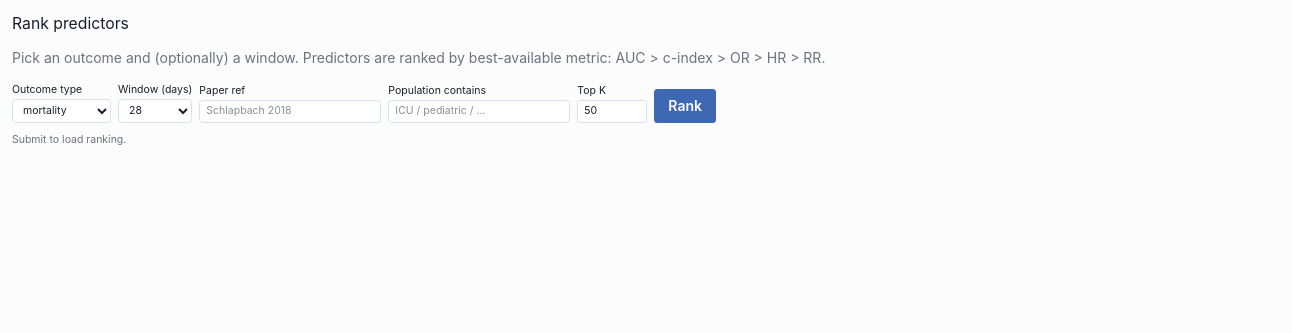
Test: RankPage › toggles the supporting-rows drawer
Click the button "Rank" at (685, 106), box [654,89,716,123]
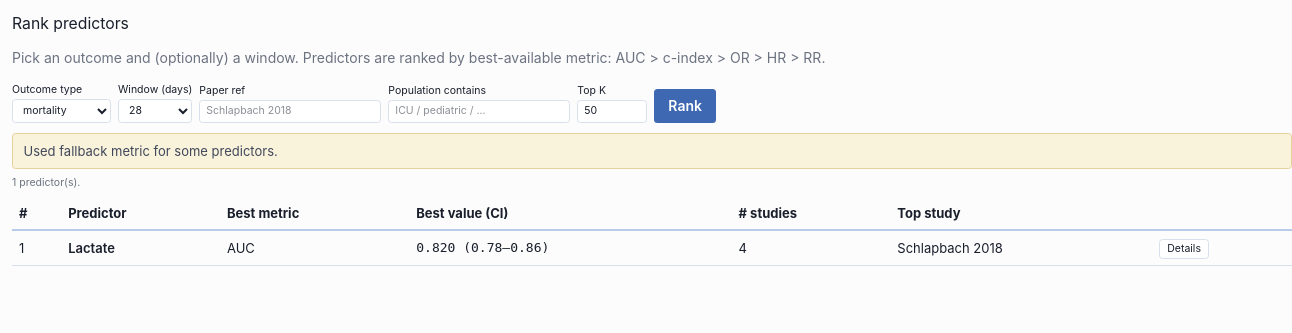
Check: the text "Lactate >2 mmol/L" is not shown
Check: the text "Lactate" is shown, box [61,230,220,266]
Click the button "Details" at (1184, 250), box [1159,240,1209,260]
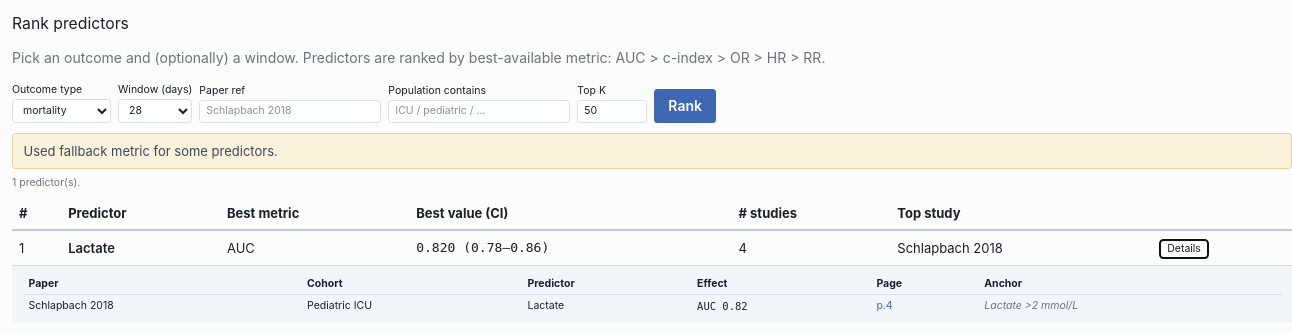
Check: the text "Lactate >2 mmol/L" is shown, box [978,295,1282,316]
Click the button "Details" at (1184, 250), box [1159,240,1209,260]
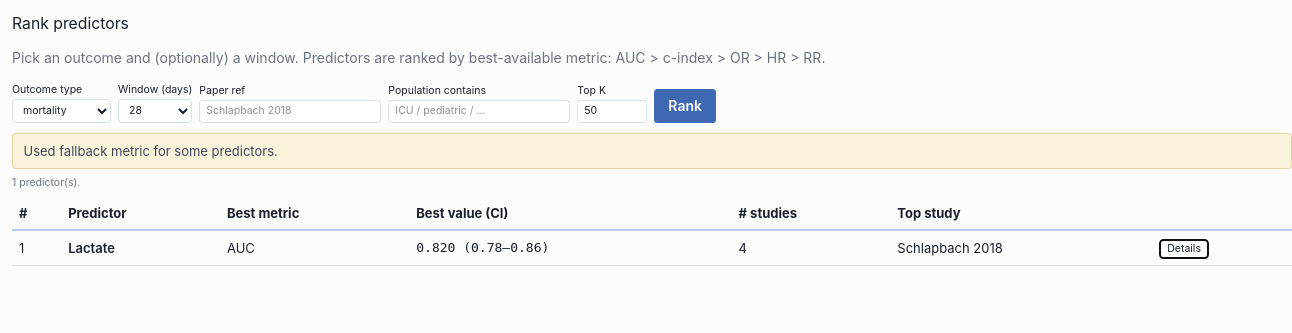
Check: the text "Lactate >2 mmol/L" is gone
